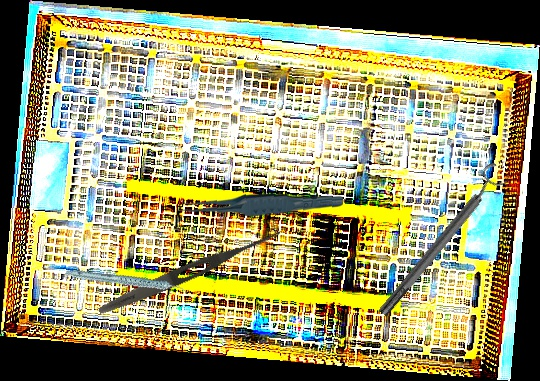Dressing Forceps: (96, 223, 283, 320)
Fixation Ring: (369, 159, 514, 323)
Handpiece: (64, 246, 189, 319)
Tissue Forceps: (176, 189, 344, 219)
